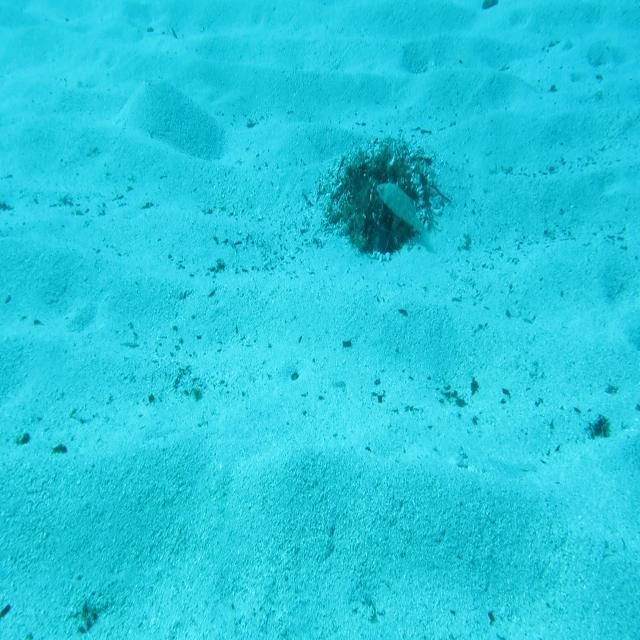MAN: (374, 173, 441, 253)
core_nest: (358, 170, 401, 196)
nest: (321, 136, 452, 258)
